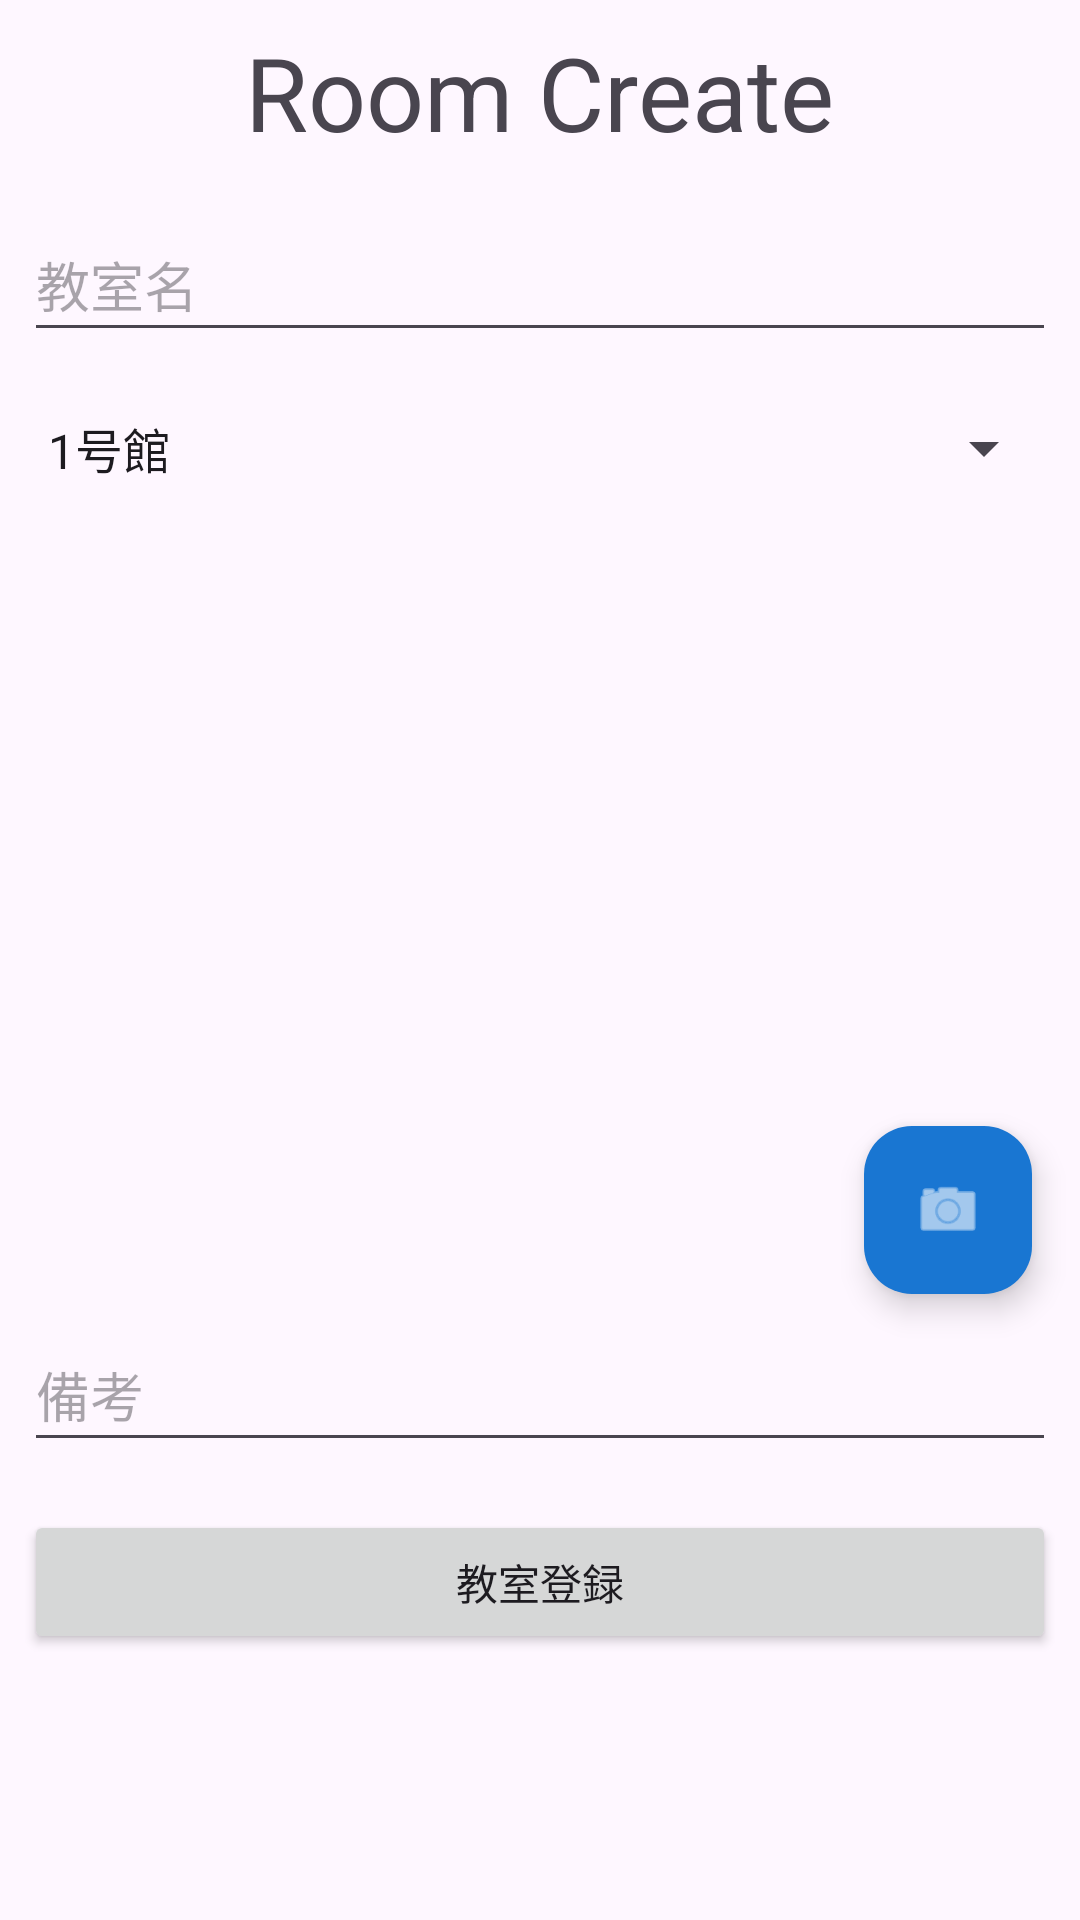

Icons on this 1080×1920 Android screen, each with the point to tap as point (x, y):
カメラ起動: point (948, 1210)
